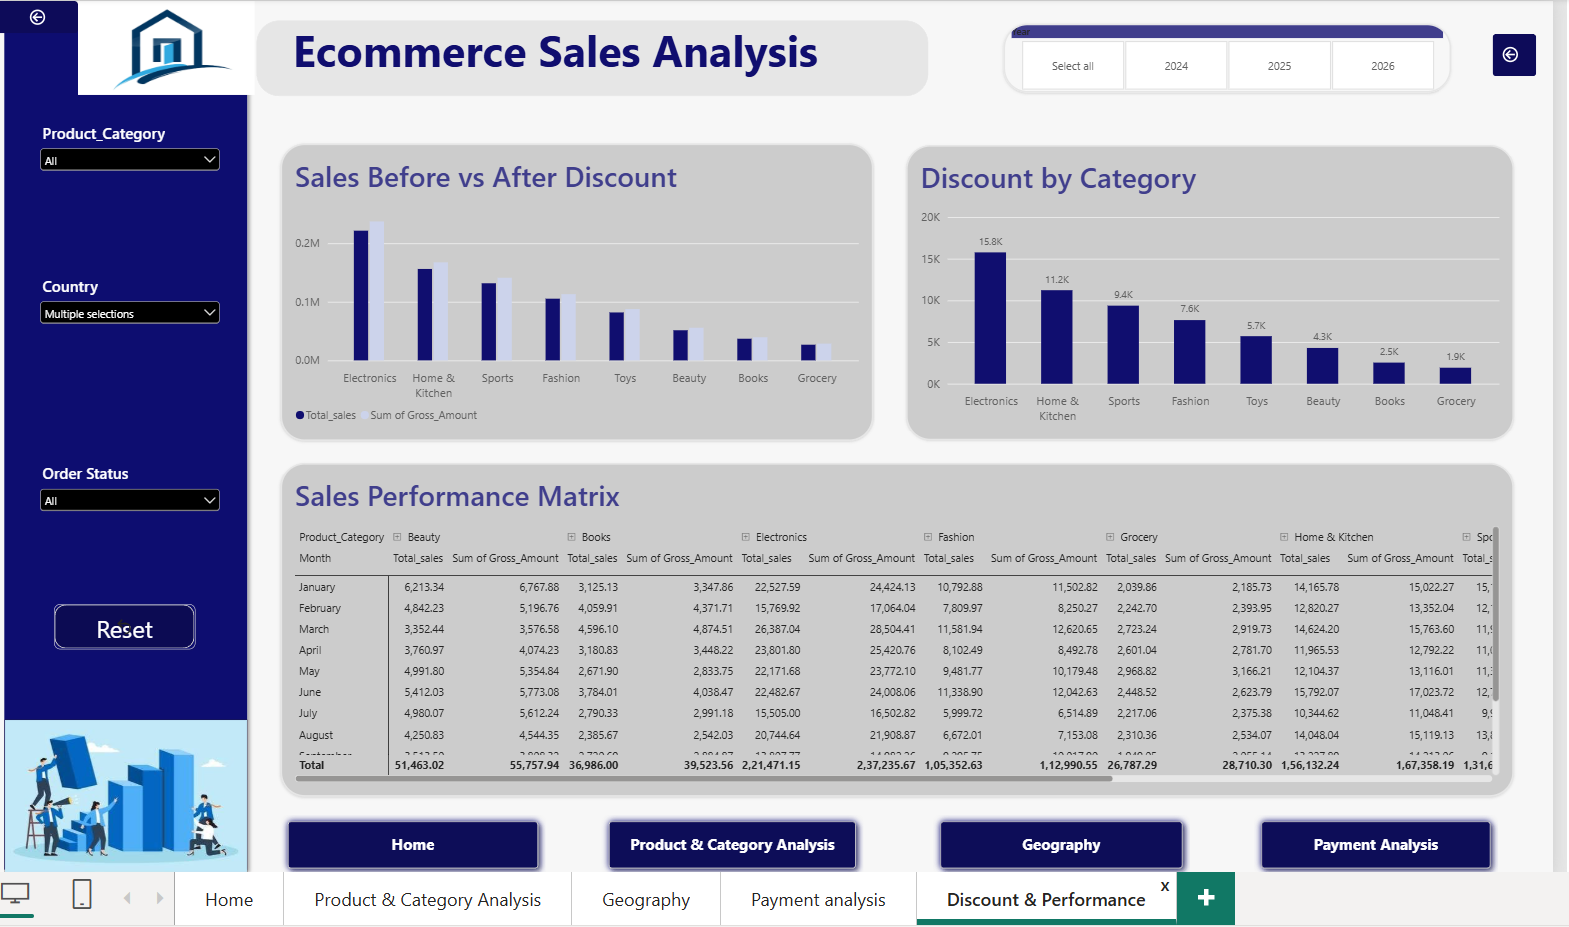

This screenshot's page, from the dashboard's own definition file:
{"tool":"powerbi","page":{"name":"Discount & Performance","canvas":[1920,1080],"ordinal":4},"visuals":[{"type":"textbox","box":[320.3,25,829,93.1],"z":0},{"type":"clusteredColumnChart","title":"Sales Before vs After Discount","fields":{"Y":["Sales_details.Total_sales","Sum(Sales_details.Gross_Amount)"],"Category":["product_details.Product_Category"]},"box":[350.5,175.3,731.9,367.1],"z":1000},{"type":"shape","box":[0,2.9,317.8,1077.5],"z":2000},{"type":"slicer","title":"Total Sales","fields":{"Values":["Sales_details.Order_Date.Variation.Date Hierarchy.Year"]},"box":[1241.9,27.8,552.4,85.3],"z":3000},{"type":"slicer","fields":{"Values":["product_details.Product_Category"]},"box":[47.4,149.2,231.7,153.3],"z":4000},{"type":"slicer","fields":{"Values":["Location_details.Country"]},"box":[47.4,338.7,231.7,168.3],"z":5000},{"type":"slicer","fields":{"Values":["Sales_details.Order_Status_Consistency"]},"box":[47.4,570.8,231.7,138.3],"z":6000},{"type":"columnChart","title":"Discount by Category","fields":{"Y":["Sum(Sales_details.Discount_Amount)"],"Category":["product_details.Product_Category"]},"box":[1122.6,177.6,750.8,364.7],"z":7000},{"type":"pivotTable","title":"Sales Performance Matrix","fields":{"Rows":["Sales_details.Order_Date.Variation.Date Hierarchy.Month"],"Columns":["product_details.Product_Category","product_details.Product_Name"],"Values":["Sales_details.Total_sales","Sum(Sales_details.Gross_Amount)"]},"box":[350.5,570.8,1522.9,412.1],"z":8000},{"type":"actionButton","box":[0,0,100,40],"z":9000},{"type":"actionButton","box":[1846.4,40.1,54.2,52.2],"z":10000},{"type":"actionButton","title":"Product & Category Analysis","box":[746.6,1003.5,323.1,76.3],"z":11000},{"type":"actionButton","title":"Product & Category Analysis","box":[349.2,1003.5,327.1,76.3],"z":12000},{"type":"actionButton","title":"Product & Category Analysis","box":[1156,1003.5,317.1,76.3],"z":13000},{"type":"actionButton","title":"Product & Category Analysis","box":[1551.4,1003.5,301,76.3],"z":14000},{"type":"image","box":[99.5,0,217.9,116.1],"z":15000},{"type":"actionButton","title":"Reset","box":[71.1,743.7,174.6,56.2],"z":16000},{"type":"image","box":[9.3,887.9,300.3,190.9],"z":17000}]}

Visuals, with their boxes on the page's 1920x1080 design canvas (x1, y1, x2, y2). These are canvas units, not pixel positions in the 1569x927 screenshot, which may show the page scaled, cropped or inside an application window:
textbox: <region>320, 25, 1149, 118</region>
"Sales Before vs After Discount" clusteredColumnChart: <region>350, 175, 1082, 542</region>
shape: <region>0, 3, 318, 1080</region>
"Total Sales" slicer: <region>1242, 28, 1794, 113</region>
slicer - product_details.Product_Category: <region>47, 149, 279, 302</region>
slicer - Location_details.Country: <region>47, 339, 279, 507</region>
slicer - Sales_details.Order_Status_Consistency: <region>47, 571, 279, 709</region>
"Discount by Category" columnChart: <region>1123, 178, 1873, 542</region>
"Sales Performance Matrix" pivotTable: <region>350, 571, 1873, 983</region>
actionButton: <region>0, 0, 100, 40</region>
actionButton: <region>1846, 40, 1901, 92</region>
"Product & Category Analysis" actionButton: <region>747, 1004, 1070, 1080</region>
"Product & Category Analysis" actionButton: <region>349, 1004, 676, 1080</region>
"Product & Category Analysis" actionButton: <region>1156, 1004, 1473, 1080</region>
"Product & Category Analysis" actionButton: <region>1551, 1004, 1852, 1080</region>
image: <region>100, 0, 317, 116</region>
"Reset" actionButton: <region>71, 744, 246, 800</region>
image: <region>9, 888, 310, 1079</region>
